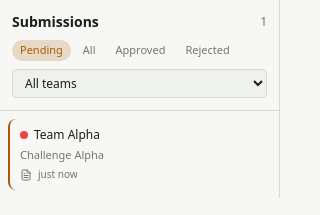
Test case: SubmissionList › shows empty state when no submissions match filter
Expected: the text "Submissions" is shown, [12,12,99,32]
# Switch to approved filter -- only sub-2 is approved
Click the button with test id "filter-approved" at point(140, 50), box [108,40,173,60]
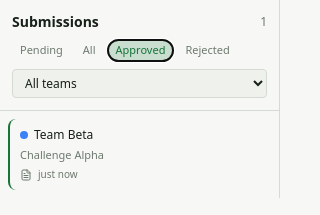
Expected: the button with test id "submission-card-sub-2" is shown, [8,118,271,190]
